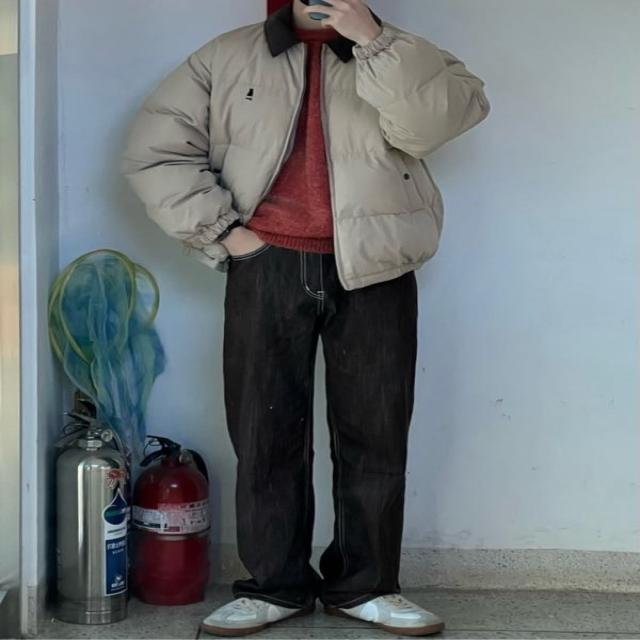denimpants: (225, 242, 420, 610)
padding: (123, 3, 490, 292)
